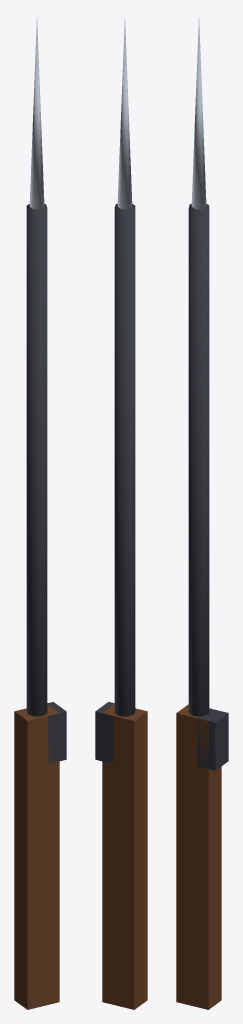
Rendered from musket.glb.
3 renders of one model, left to right at view 1: azimuth 30°, elevation 25°; view 2: azimuth 150°, elevation 25°; view 3: azimuth 330°, elevation 25°, orthographic.
Visible parts, largest first — view 1: musket; view 2: musket; view 3: musket.
Part boxes in pixels (x1,y1,x2,y2): musket: [14, 17, 66, 1009]; musket: [95, 17, 147, 1009]; musket: [176, 17, 228, 1009].
Bounding box in the file's own units: 0.085 × 2.05 × 0.05.
